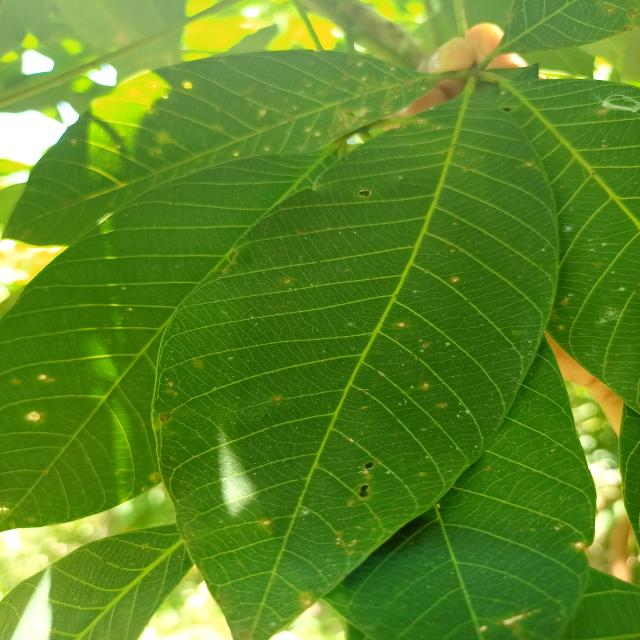Colletotrichum: (396, 322, 406, 328), (397, 336, 400, 338), (370, 277, 372, 279)
